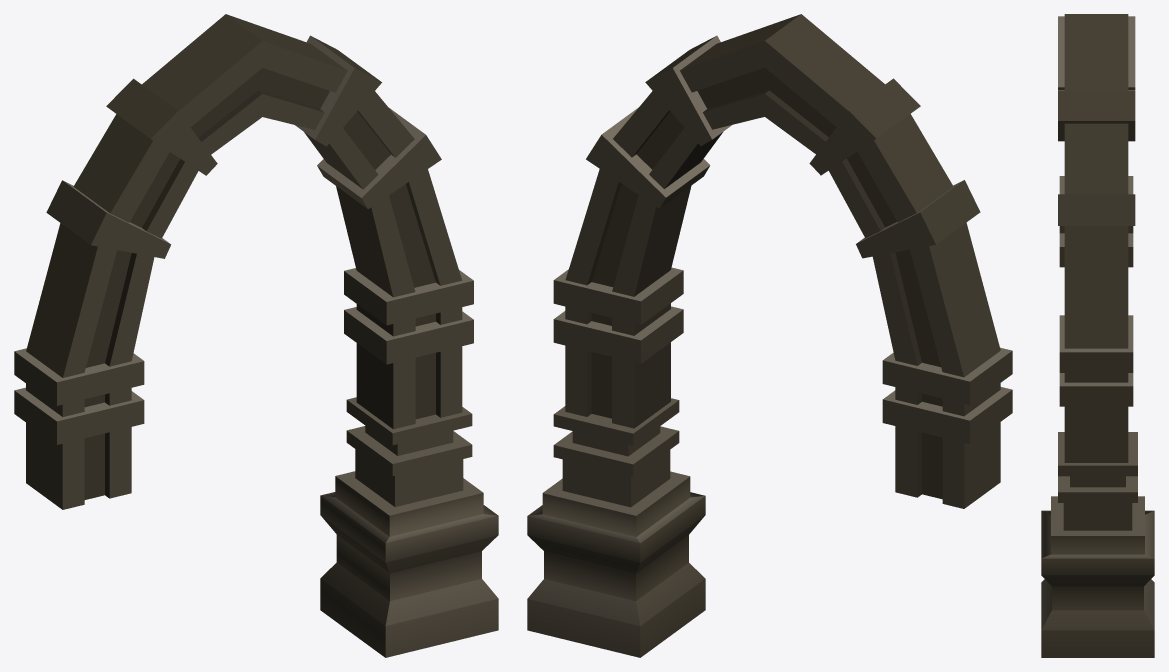
The model's file is SD_Env_Undead_Pillar_02.fbx.
The picture shows the model from 3 angles, left to right: view 1: azimuth 30°, elevation 25°; view 2: azimuth 150°, elevation 25°; view 3: azimuth 270°, elevation 25°; orthographic projection. The views are drawn at different scales.
Visible parts, largest first — view 1: SD_Env_Undead_Pillar_02; view 2: SD_Env_Undead_Pillar_02; view 3: SD_Env_Undead_Pillar_02.
Boxes of the visible parts, <box> form: SD_Env_Undead_Pillar_02: <box>14,14,498,657</box>; SD_Env_Undead_Pillar_02: <box>527,14,1012,657</box>; SD_Env_Undead_Pillar_02: <box>1041,14,1154,657</box>.
Bounding box in the file's own units: 6.46 × 9.08 × 1.69.
